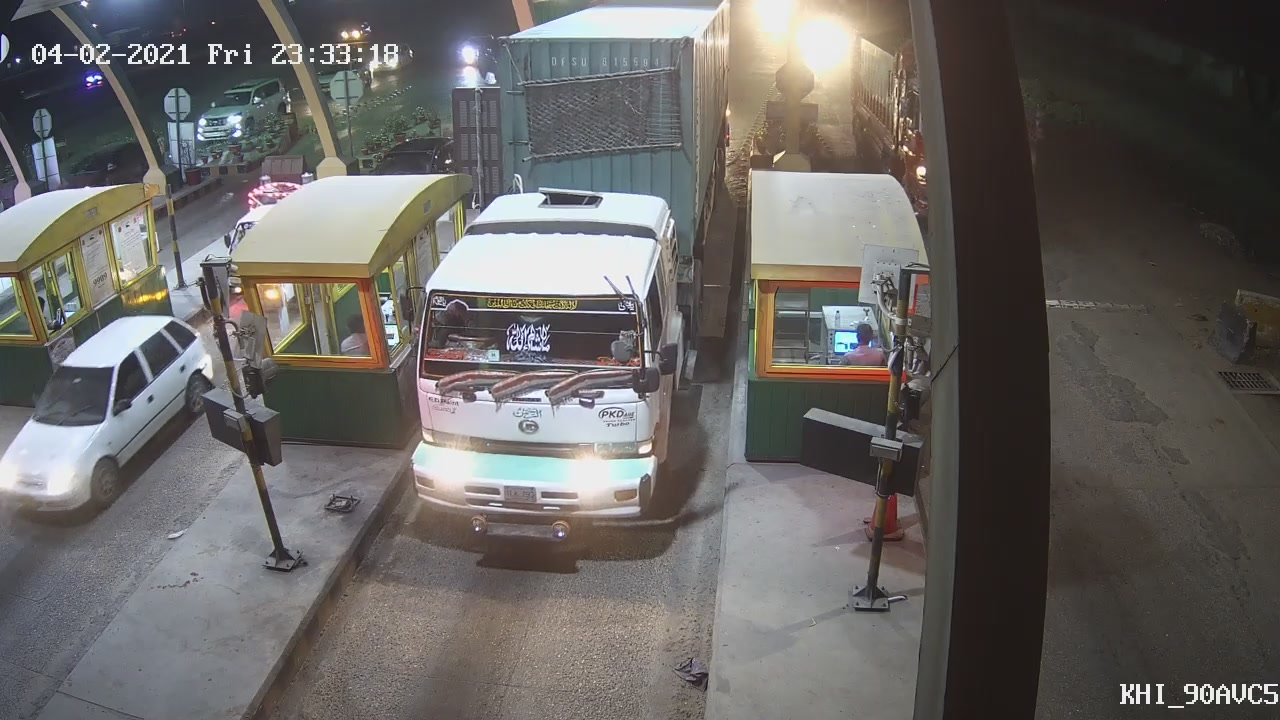F6: (400, 168, 717, 549)
